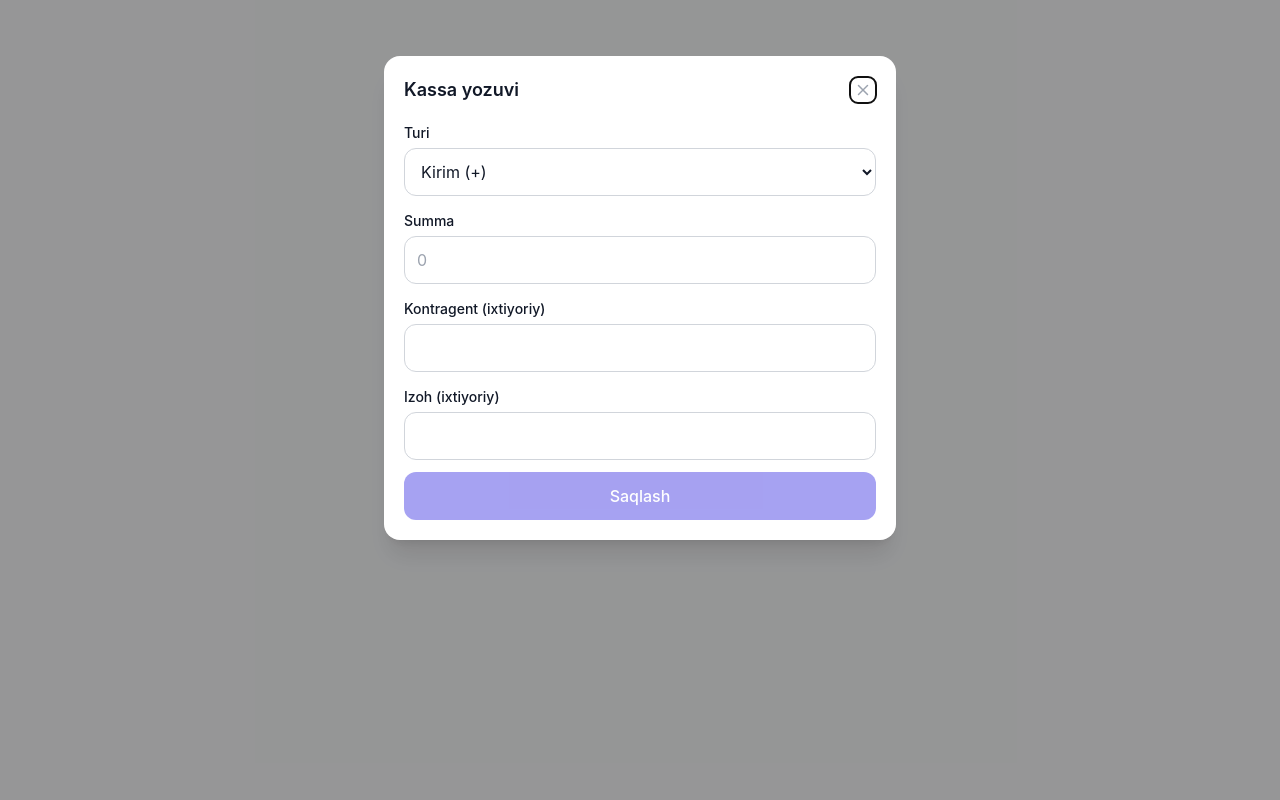
Test: CashTxModal › "Boshqa chiqim" sababsiz saqlanmaydi
Select "Chiqim (−)" in the dropdown labelled "Turi" at (640, 172), box [404,148,876,196]
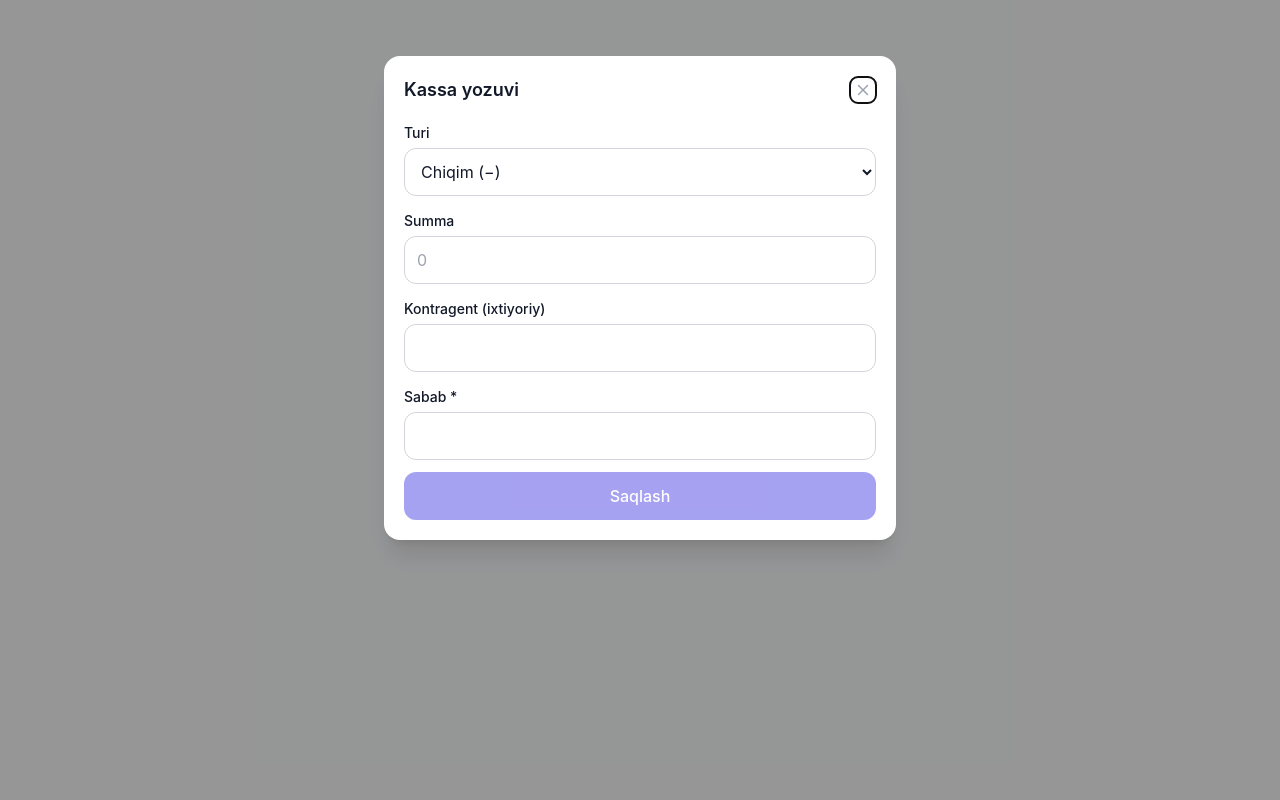
Type "50000" into the field labelled "Summa" at (640, 260), box [404,236,876,284]
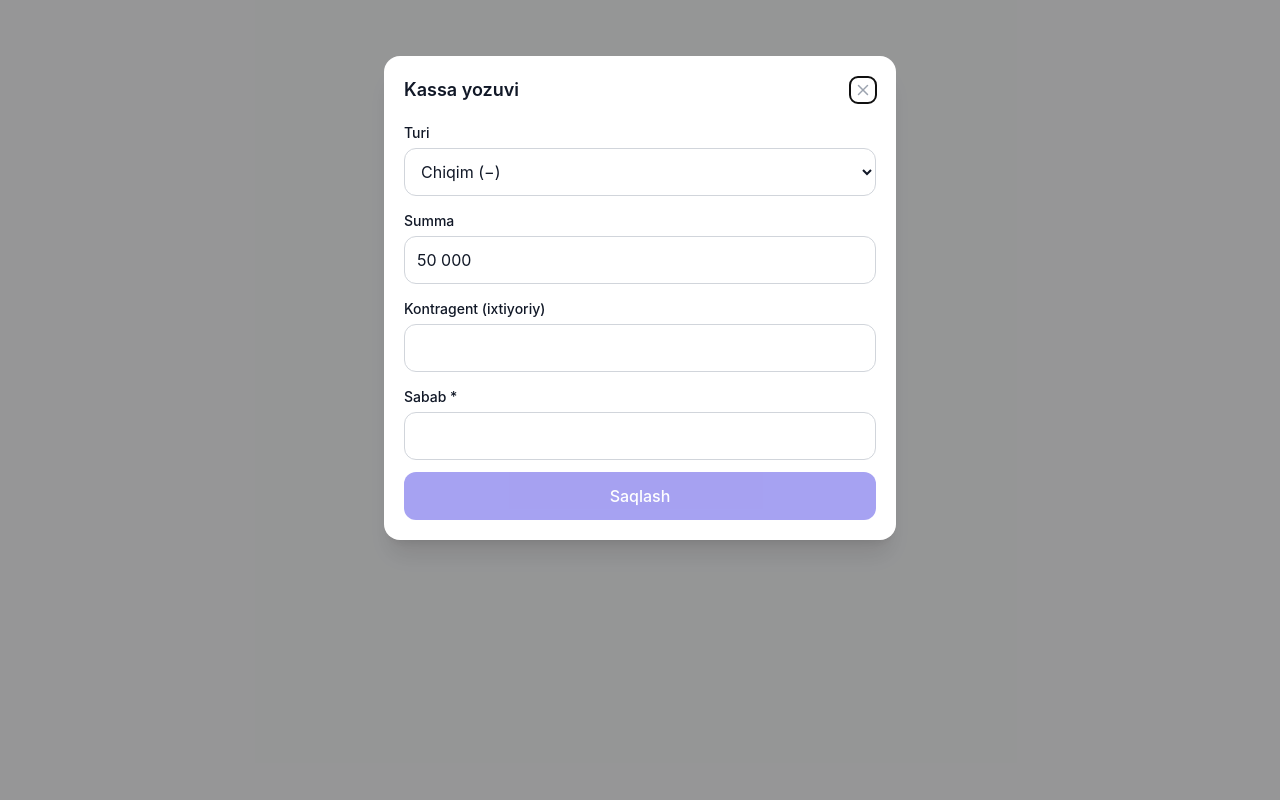
Expected: the button "Saqlash" is disabled, [404,472,876,520]
Type "Ofis suvi" into the field labelled "Sabab *" at (640, 436), box [404,412,876,460]
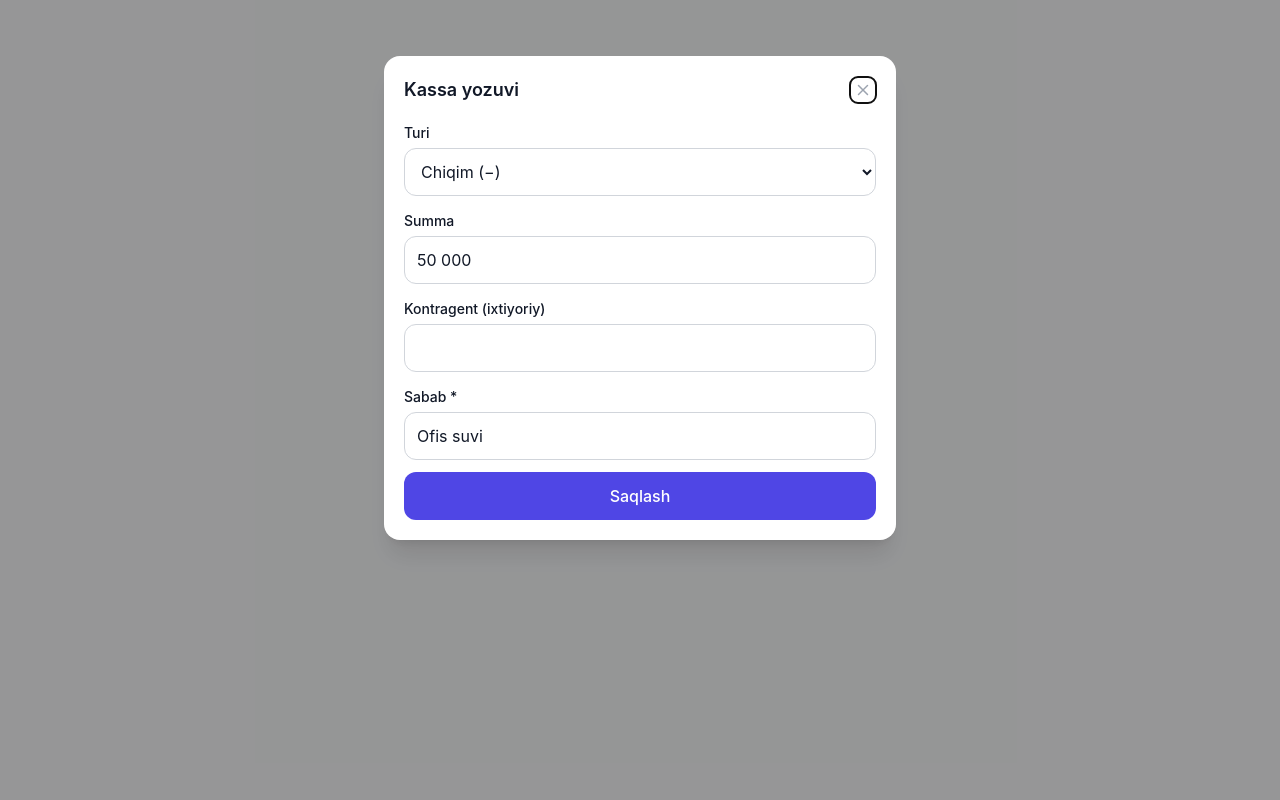
Expected: the button "Saqlash" is enabled, [404,472,876,520]
